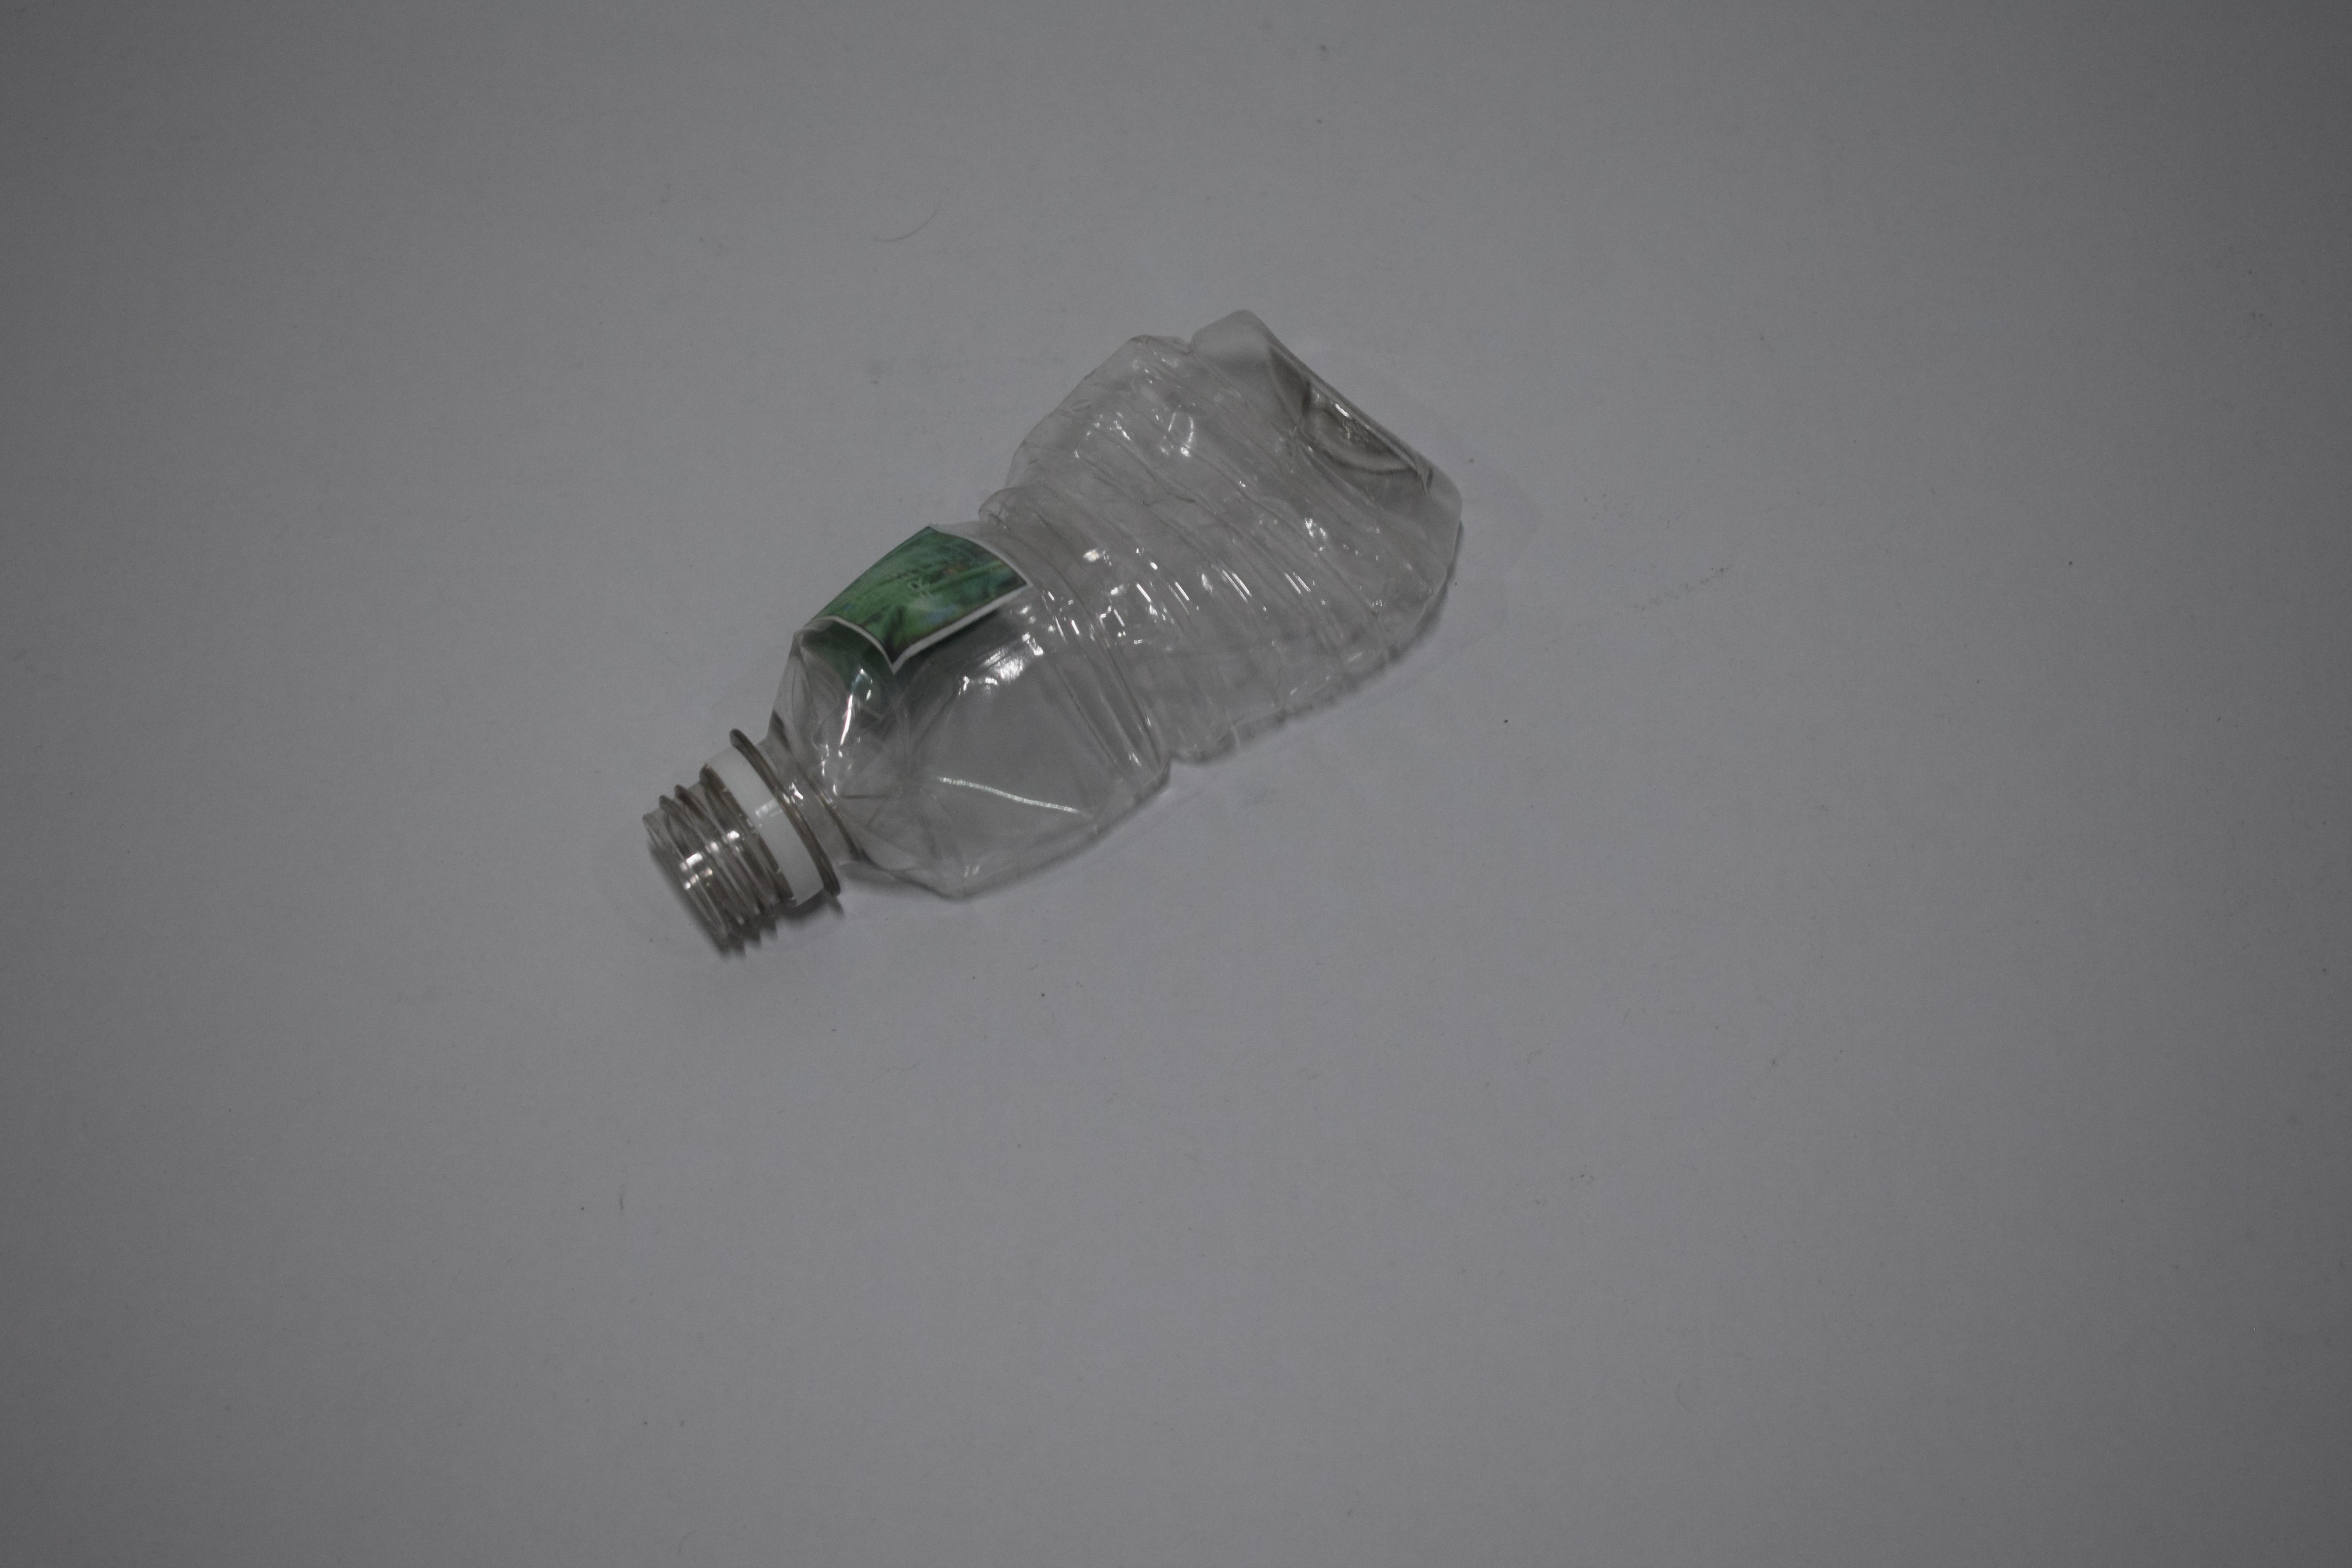bottle: (698, 303, 1410, 955)
